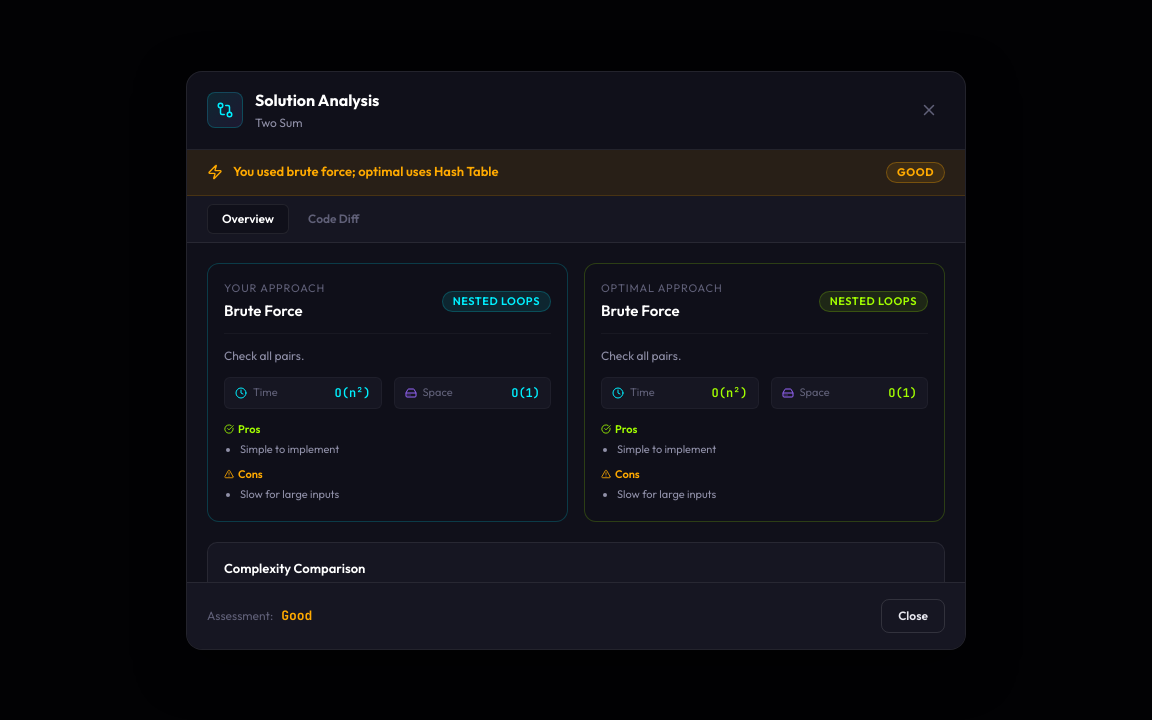
SolutionComparison › conditional rendering - code section › shows only user code block when only user has code (code tab)
This screenshot has width=1152, height=720.
Click the button "Code Diff". click: (334, 218)
box: [293, 204, 374, 234]
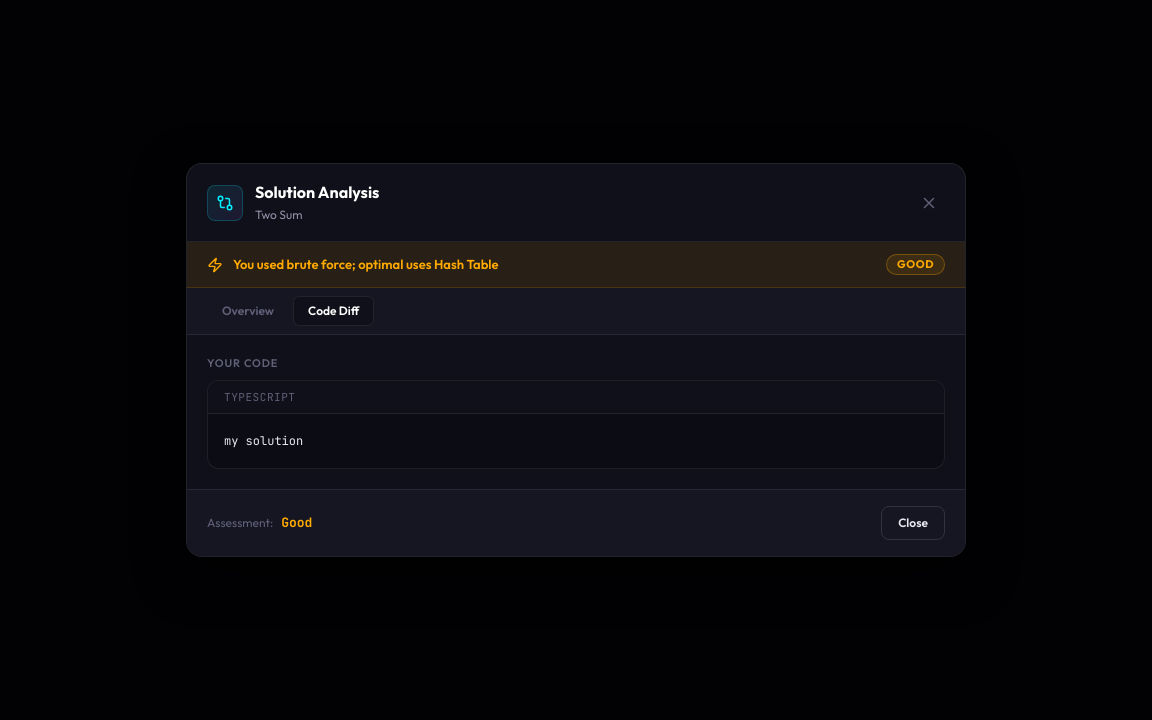
Check: the text "Your Code" is shown, box [207, 356, 278, 370]
